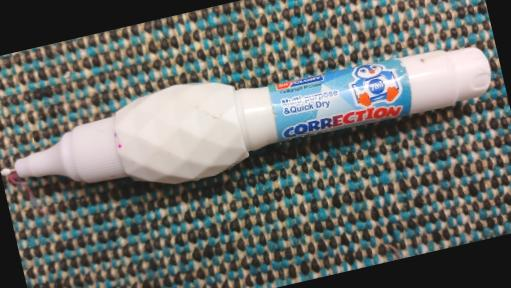Correction pen: (0, 15, 503, 223)
